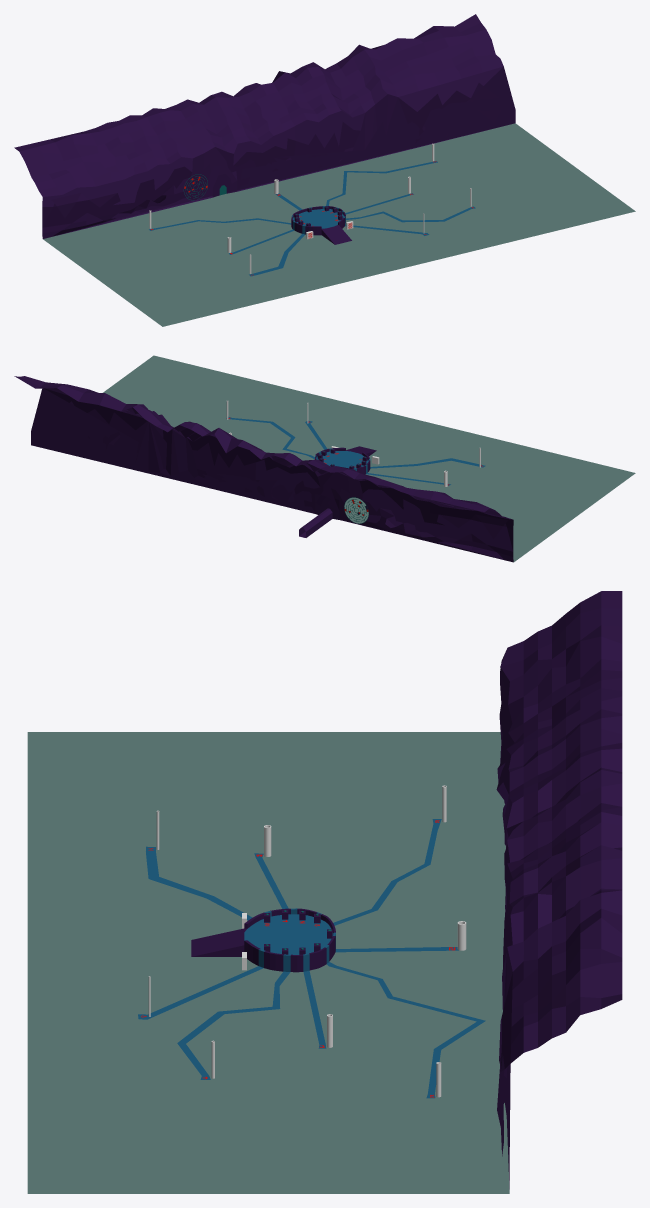
The model's file is LastDoor.fbx.
3 views of the same model, one above another, from view 1: azimuth 30°, elevation 25°; view 2: azimuth 150°, elevation 25°; view 3: azimuth 270°, elevation 25° (orthographic). The views are drawn at different scales.
Visible parts, largest first — view 1: Ground, Cube, RoadToPipe, Labyrinthe; view 2: Ground, Cube, RoadToPipe; view 3: Ground, Cube, RoadToPipe.
Part boxes in pixels (x1,y1,x2,y2): Ground: (43, 123, 635, 326); Cube: (14, 14, 515, 238); RoadToPipe: (149, 161, 475, 276); Labyrinthe: (183, 174, 207, 200); Ground: (103, 355, 635, 562); Cube: (14, 376, 513, 562); RoadToPipe: (226, 416, 485, 485); Ground: (27, 732, 509, 1193); Cube: (496, 591, 622, 1189); RoadToPipe: (138, 819, 485, 1098).
Size of the model in its own units: 15976 by 2954 by 8691.
